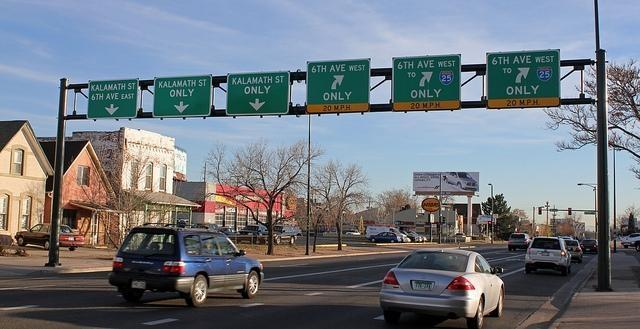car: (107, 222, 266, 310), (382, 247, 506, 326), (525, 233, 572, 277), (15, 223, 84, 252), (273, 224, 297, 246), (564, 239, 584, 264), (508, 232, 532, 251), (369, 232, 398, 243), (238, 225, 268, 235), (580, 238, 598, 254), (399, 231, 422, 242), (224, 228, 238, 234), (560, 235, 573, 240)
